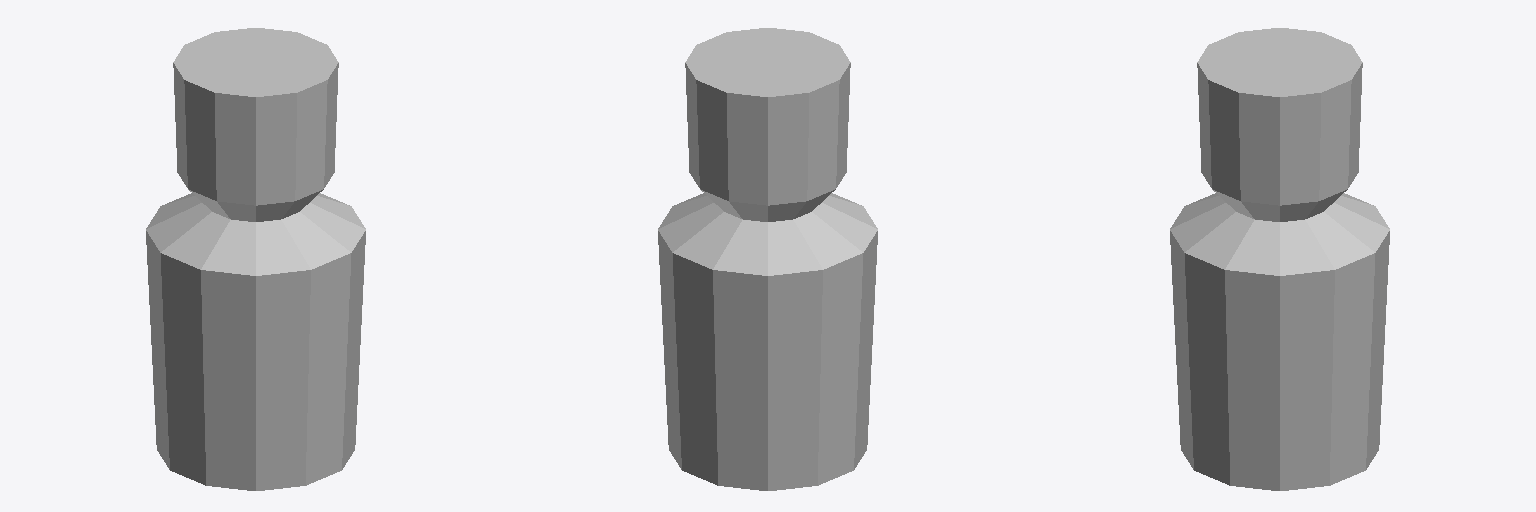
File: HEAL.obj
3 renders of one model, left to right at view 1: azimuth 30°, elevation 25°; view 2: azimuth 150°, elevation 25°; view 3: azimuth 270°, elevation 25°, orthographic.
Parts seen in each view (by area): view 1: Cylinder; view 2: Cylinder; view 3: Cylinder.
Boxes of the visible parts, x1=… form: Cylinder: x1=146, y1=28, x2=365, y2=490; Cylinder: x1=658, y1=28, x2=877, y2=490; Cylinder: x1=1170, y1=28, x2=1389, y2=490.
Size of the model in its own units: 1.44 by 2.79 by 1.44.